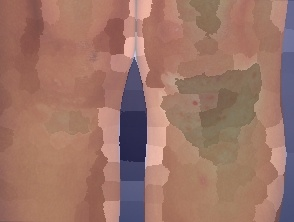vitiligo: (147, 0, 274, 209), (22, 86, 108, 167)
